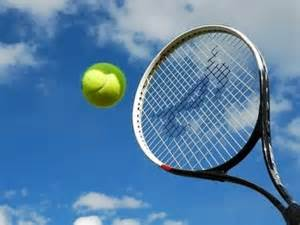tennis_ball: (81, 62, 126, 107)
